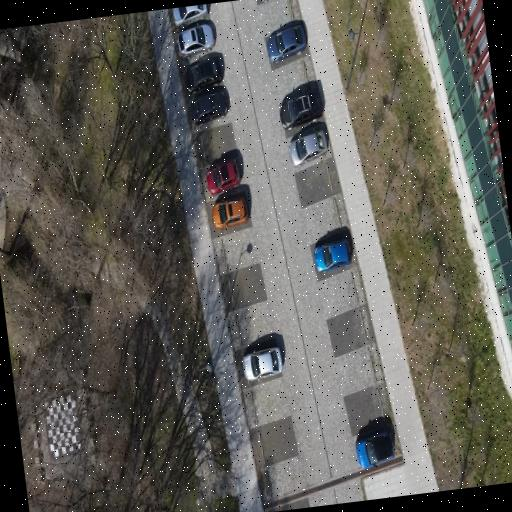person: (280, 89, 323, 129), (267, 23, 307, 63), (356, 431, 394, 468), (190, 88, 227, 124), (290, 130, 327, 165), (185, 57, 222, 92), (244, 348, 283, 380), (212, 196, 249, 229), (178, 24, 214, 57), (314, 240, 351, 272), (207, 160, 240, 195), (172, 4, 207, 26), (261, 0, 269, 1)
